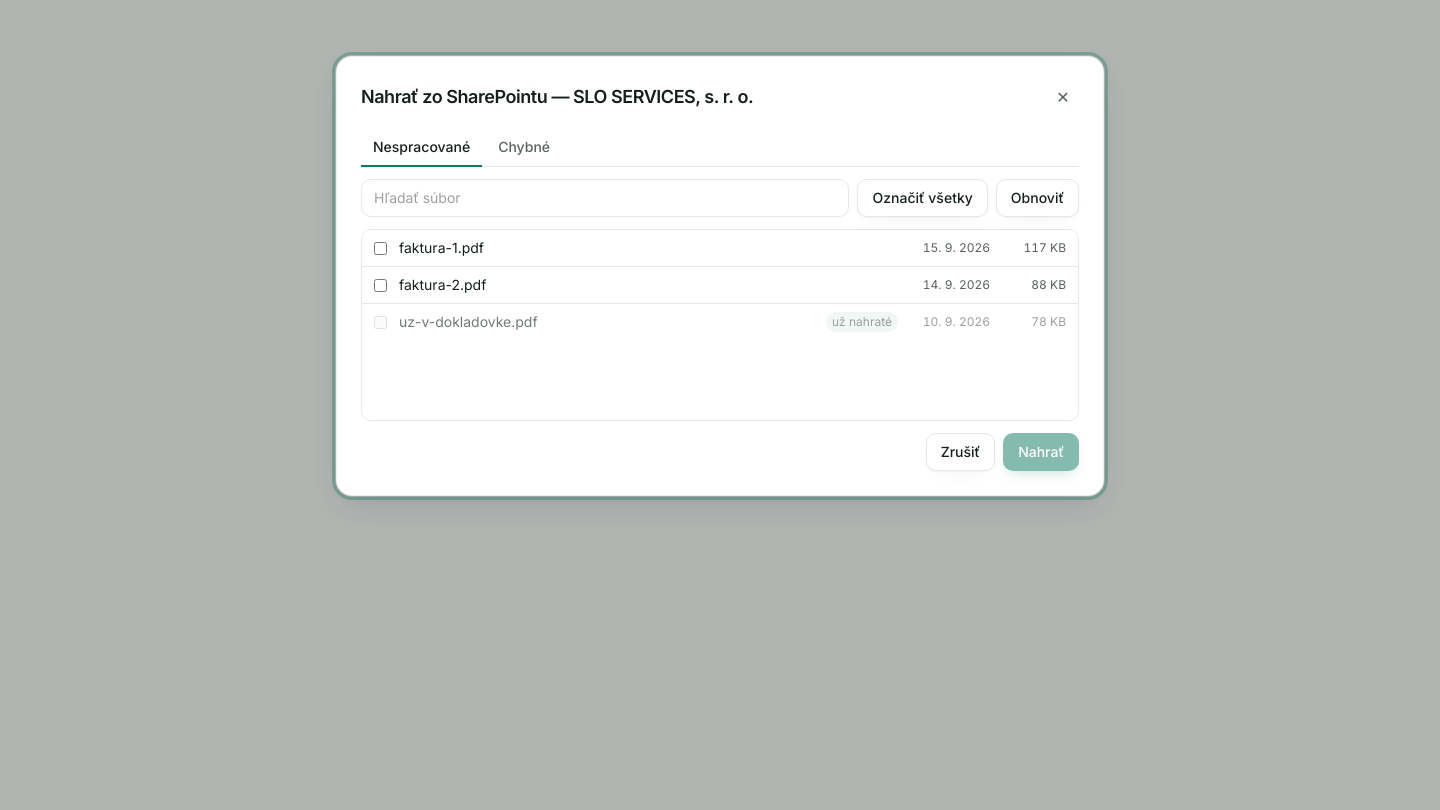
SharePointPickerModal › prepnutie na „Chybné" načíta iný priečinok a výber zruší
The width and height of the screenshot is (1440, 810).
Click the checkbox labelled "faktura-1.pdf 15. 9. 2026 117 KB".
click(380, 248)  # box [374, 242, 387, 254]
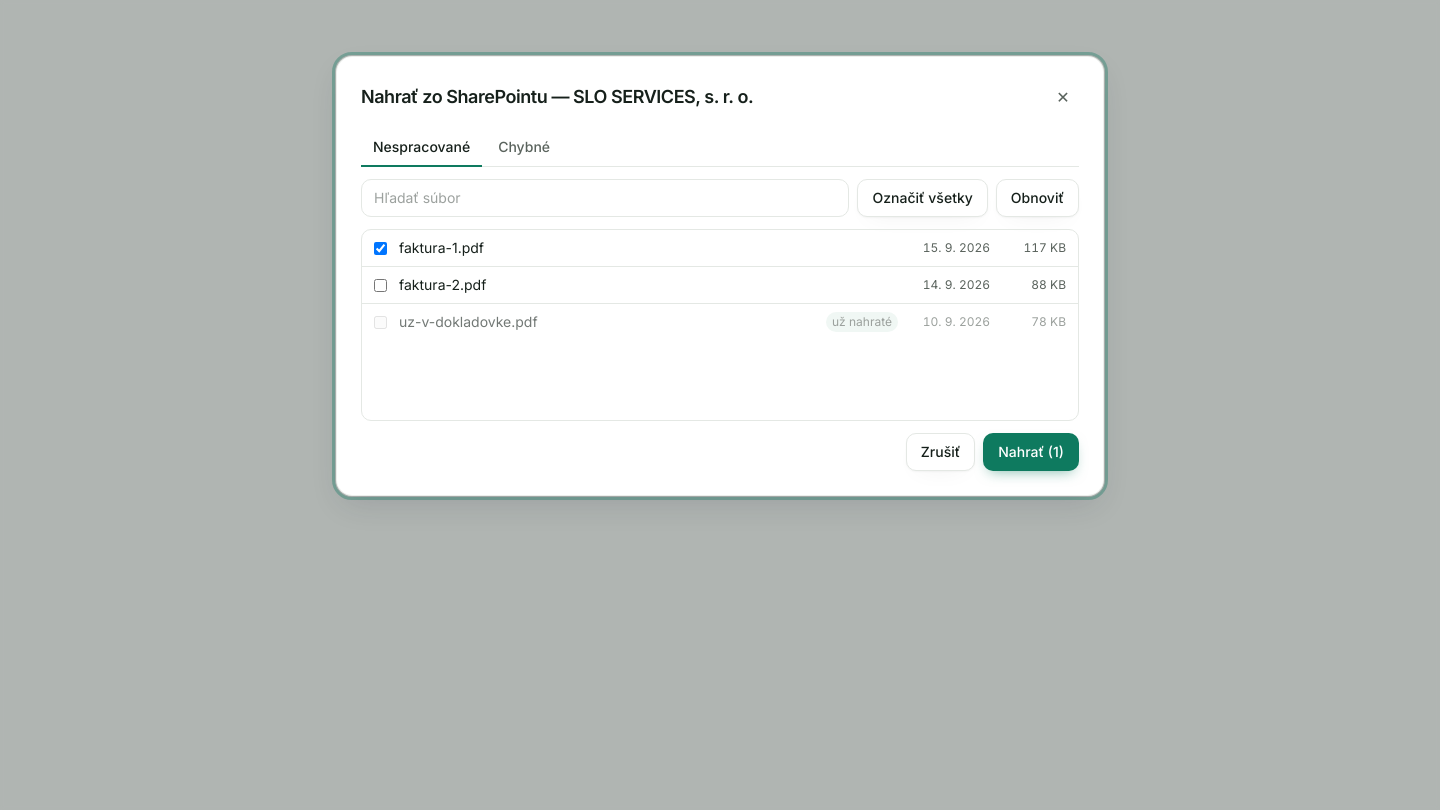
Check: the button "Nahrať (1)" is shown, box [983, 433, 1079, 471]
Click the tab "Chybné".
click(524, 148)  # box [486, 129, 562, 167]
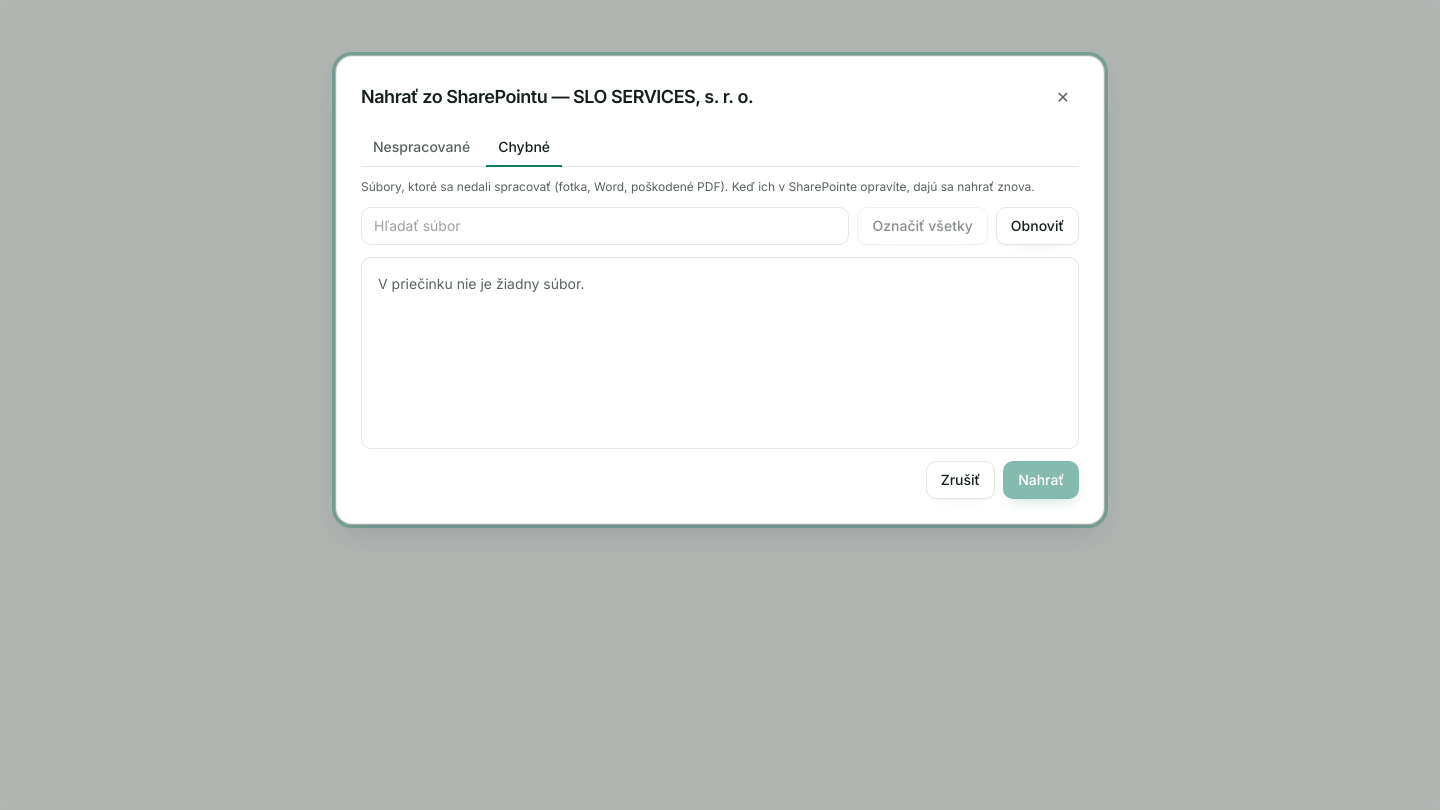
Check: the button "Nahrať" is shown, box [1003, 461, 1079, 499]
